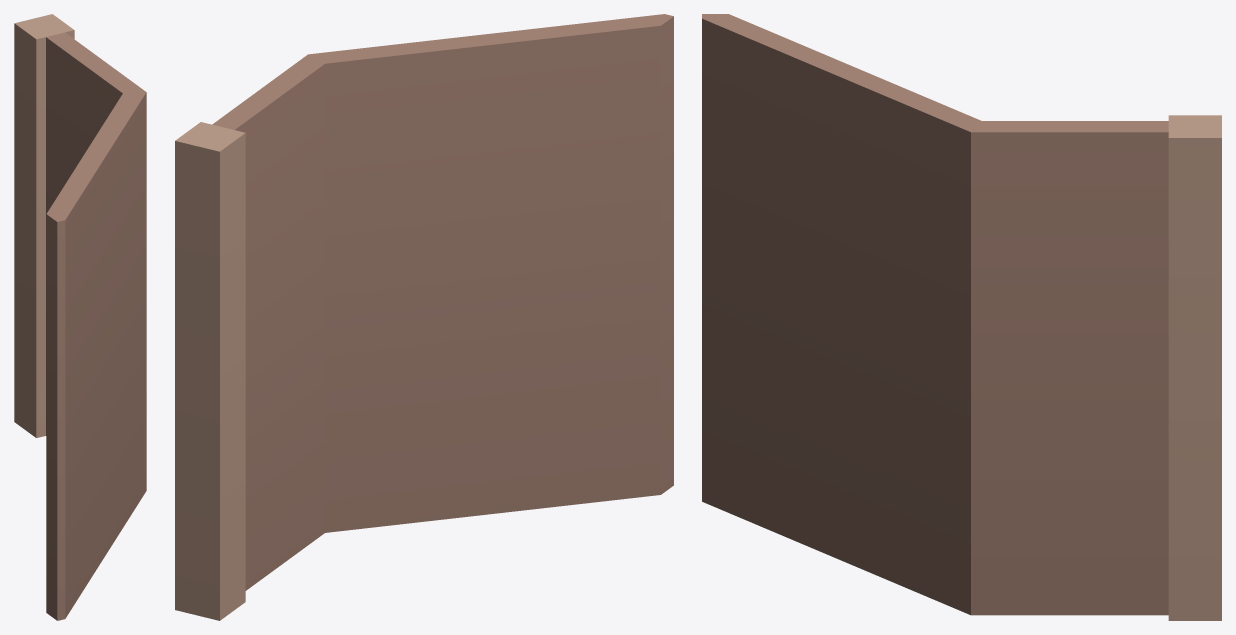
The model's file is wall-wood-corner-diagonal-half.glb.
The picture shows the model from 3 angles, left to right: view 1: azimuth 30°, elevation 25°; view 2: azimuth 150°, elevation 25°; view 3: azimuth 270°, elevation 25°; orthographic projection. The views are drawn at different scales.
Parts seen in each view (by area): view 1: wall-wood-corner-diagonal-half; view 2: wall-wood-corner-diagonal-half; view 3: wall-wood-corner-diagonal-half.
Boxes of the visible parts, left/top/right/bottom form: wall-wood-corner-diagonal-half: left=14, top=14, right=146, bottom=620; wall-wood-corner-diagonal-half: left=175, top=14, right=673, bottom=620; wall-wood-corner-diagonal-half: left=702, top=14, right=1221, bottom=620.
Bounding box in the file's own units: 0.55 × 1 × 0.975.
